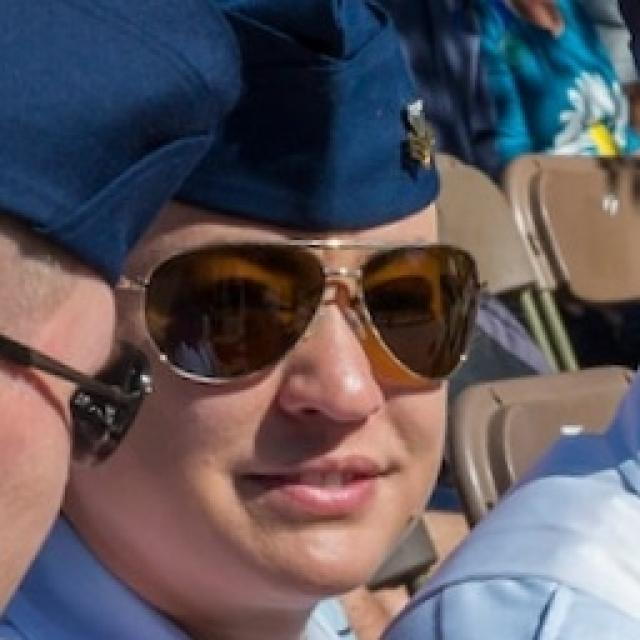glasses: (150, 229, 493, 403), (0, 310, 158, 470)
